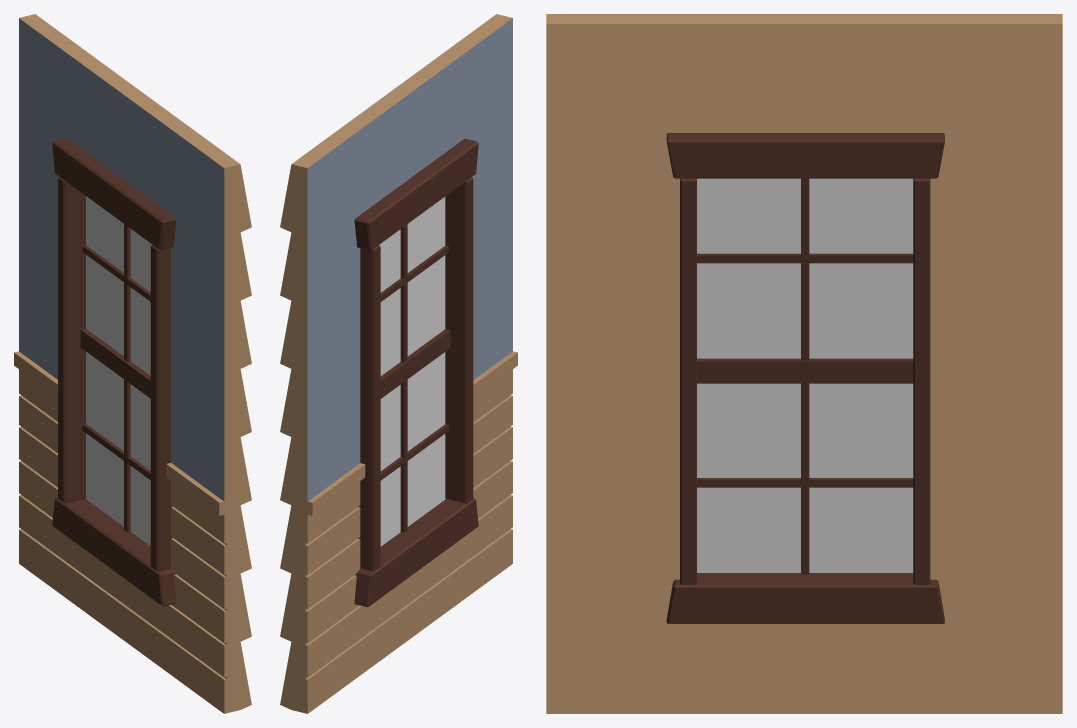
File: Small Window B-col.glb
3 renders of one model, left to right at view 1: azimuth 30°, elevation 25°; view 2: azimuth 150°, elevation 25°; view 3: azimuth 270°, elevation 25°, orthographic. The views are drawn at different scales.
Parts seen in each view (by area): view 1: Small Window B-col.001; view 2: Small Window B-col.001; view 3: Small Window B-col.001.
Boxes of the visible parts, <box> form: Small Window B-col.001: <box>14,14,251,713</box>; Small Window B-col.001: <box>280,14,517,713</box>; Small Window B-col.001: <box>546,14,1062,713</box>.
Size of the model in its own units: 0.1948 by 2.2 by 1.5.
